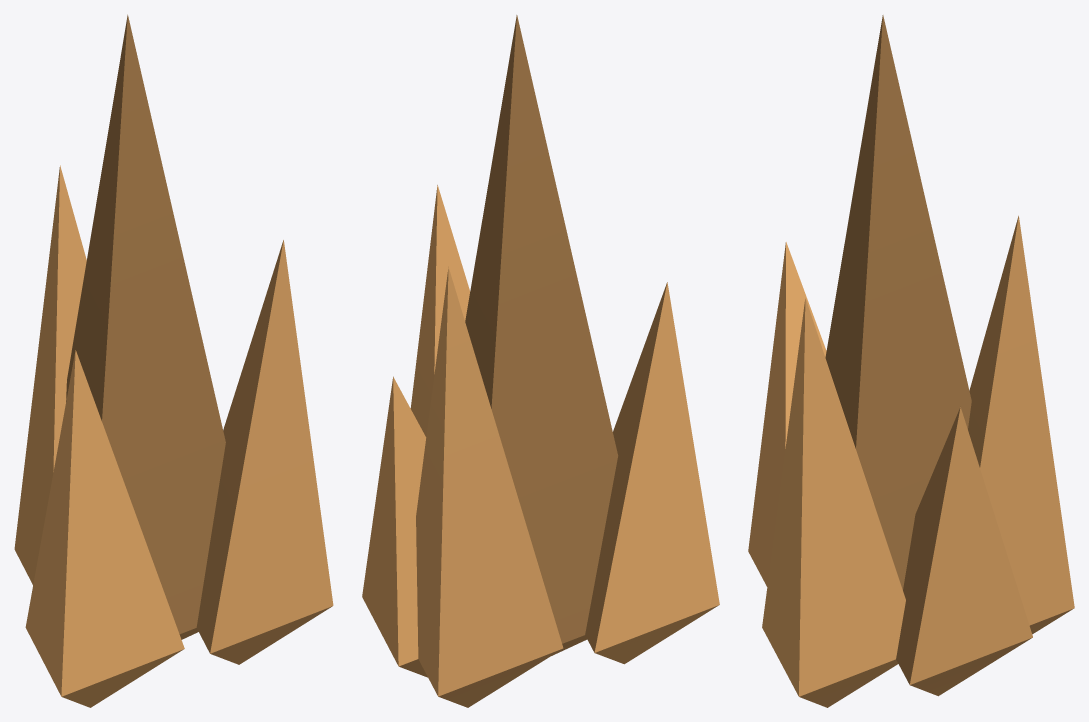
Rendered from kit_rest_flame.glb.
3 renders of one model, left to right at view 1: azimuth 30°, elevation 25°; view 2: azimuth 150°, elevation 25°; view 3: azimuth 270°, elevation 25°, orthographic.
Visible parts, largest first — view 1: kit_rest_flame; view 2: kit_rest_flame; view 3: kit_rest_flame.
Part boxes in pixels (<box>): kit_rest_flame: <box>14,14,333,707</box>; kit_rest_flame: <box>362,15,719,707</box>; kit_rest_flame: <box>748,15,1074,707</box>.
Size of the model in its own units: 0.1242 by 0.26 by 0.1179.
